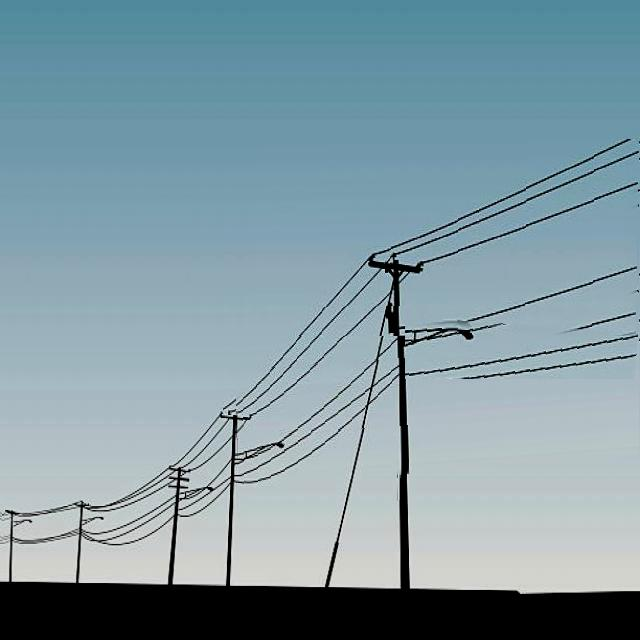crossarm: (371, 255, 424, 288)
pole: (397, 265, 403, 590)
transformer: (389, 305, 397, 338)
wire: (223, 139, 639, 414), (252, 197, 640, 420), (237, 336, 583, 486), (405, 330, 638, 379)
